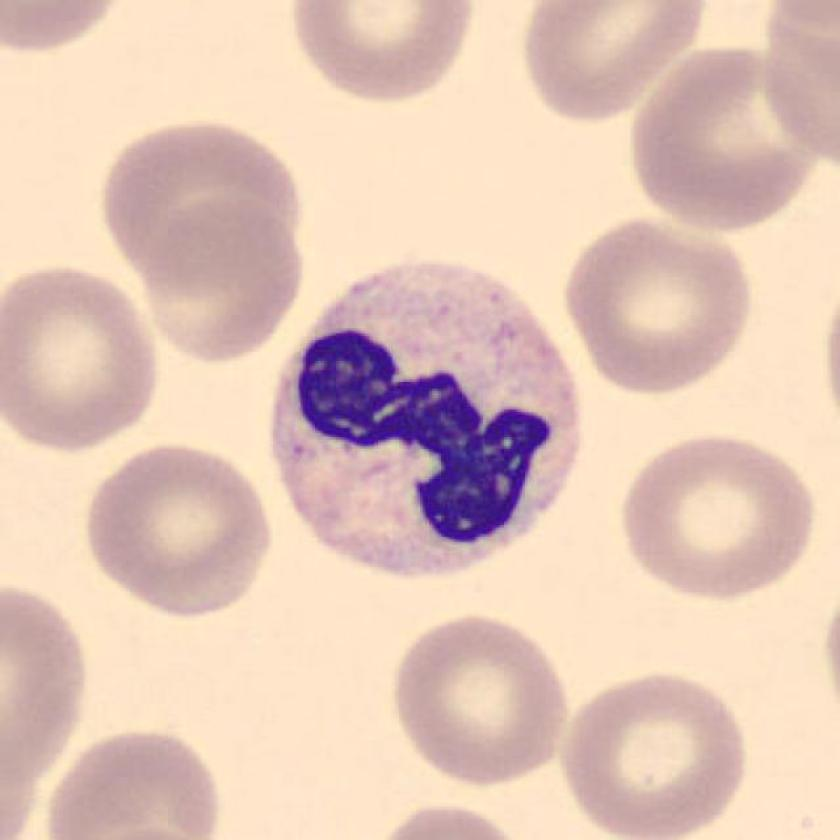neutrophil: (274, 261, 584, 581)
